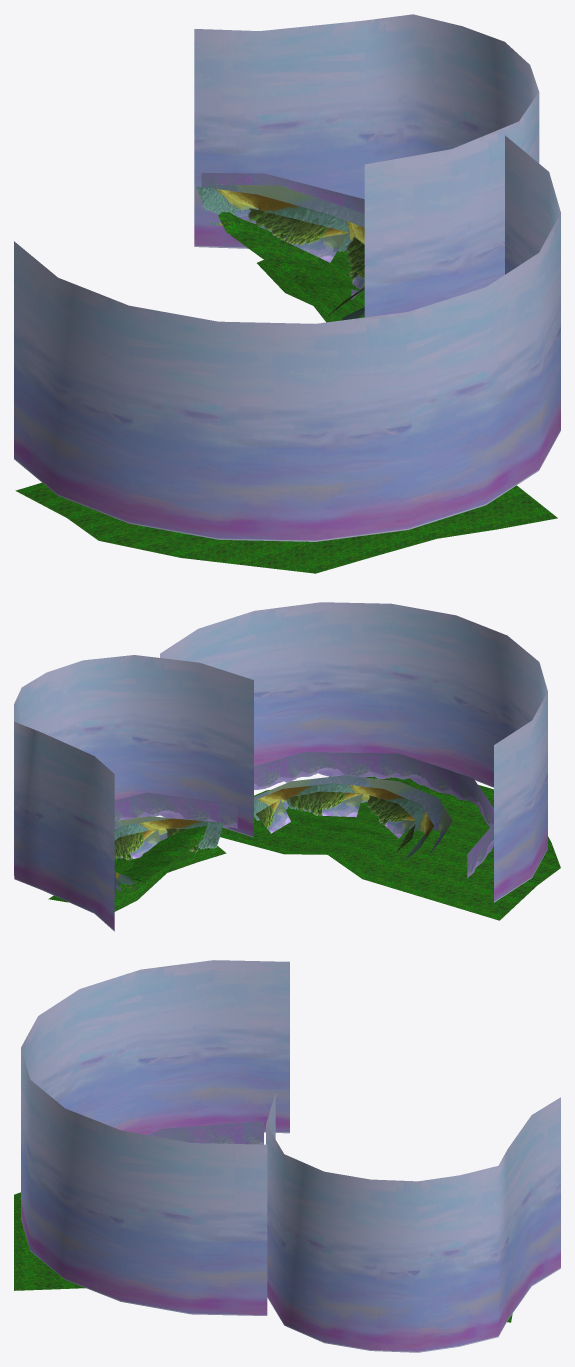
Rendered from BAGENDINTERIOR_BE_BAGENDEXT.obj.
The picture shows the model from 3 angles, top to bottom: view 1: azimuth 30°, elevation 25°; view 2: azimuth 150°, elevation 25°; view 3: azimuth 270°, elevation 25°; orthographic projection. The views are drawn at different scales.
Parts seen in each view (by area): view 1: BE_BagEndExt; view 2: BE_BagEndExt; view 3: BE_BagEndExt.
Boxes of the visible parts, left/top/right/bottom form: BE_BagEndExt: left=14, top=14, right=560, bottom=573; BE_BagEndExt: left=14, top=602, right=560, bottom=931; BE_BagEndExt: left=14, top=960, right=560, bottom=1352.
Bounding box in the file's own units: 1382 × 562 × 1445.
